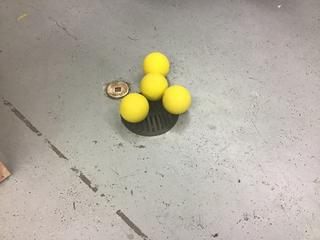power_cell: (163, 81, 191, 116), (121, 92, 149, 122), (137, 73, 167, 99), (141, 50, 168, 77)
